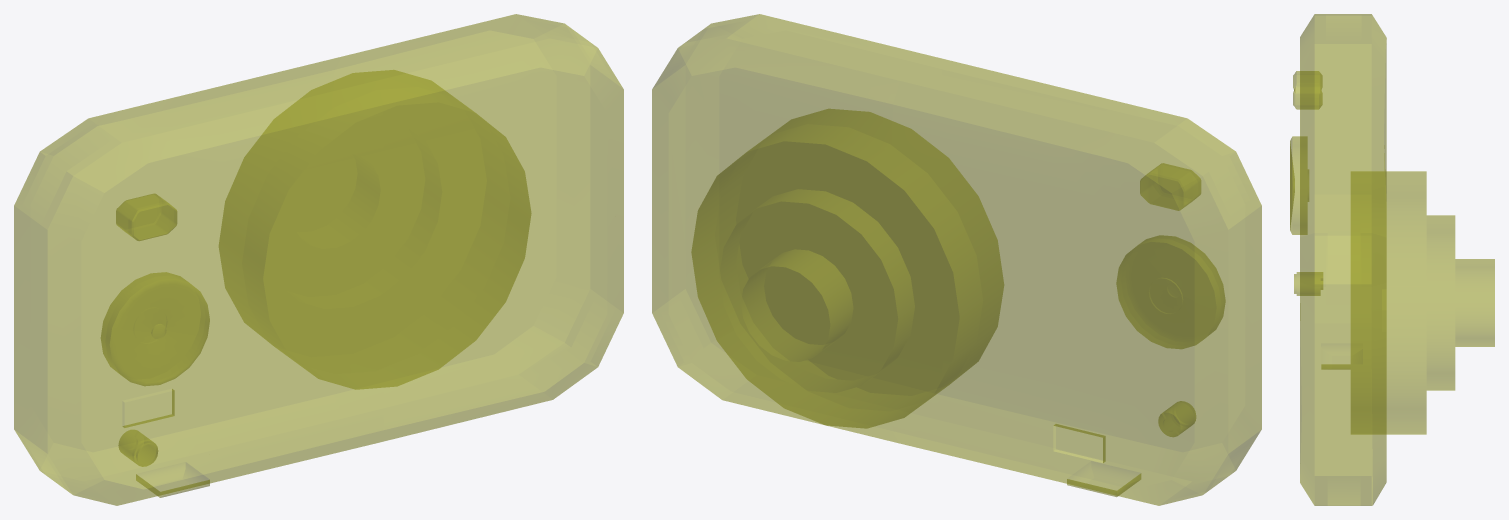
Rendered from ghost.fbx.
The picture shows the model from 3 angles, left to right: view 1: azimuth 30°, elevation 25°; view 2: azimuth 150°, elevation 25°; view 3: azimuth 270°, elevation 25°; orthographic projection. The views are drawn at different scales.
Parts seen in each view (by area): view 1: pCylinder5; view 2: pCylinder5; view 3: pCylinder5.
Boxes of the visible parts, x1,y1,x2,y2 form: pCylinder5: (14, 14, 623, 505); pCylinder5: (652, 14, 1261, 505); pCylinder5: (1290, 14, 1494, 505).
Bounding box in the file's own units: 4.29 × 2.65 × 1.54.
